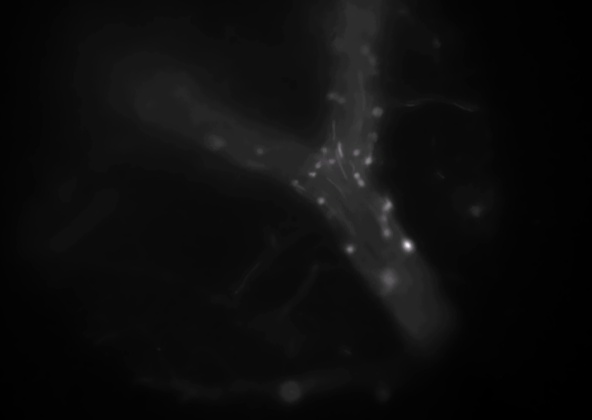cell: (401, 238, 415, 252), (371, 105, 385, 119), (348, 146, 362, 160), (362, 152, 376, 166), (317, 142, 331, 156), (310, 158, 324, 172), (323, 154, 337, 168), (323, 89, 337, 103), (350, 169, 364, 183), (333, 91, 347, 105), (353, 177, 367, 191), (342, 242, 356, 256), (382, 271, 396, 285), (380, 226, 394, 240), (382, 199, 396, 213), (377, 212, 391, 226), (378, 200, 392, 214), (313, 195, 327, 209), (289, 177, 303, 191), (253, 144, 267, 158), (208, 136, 222, 150), (358, 43, 372, 57), (366, 52, 380, 66), (332, 40, 346, 54), (367, 128, 381, 142), (306, 167, 320, 181)
